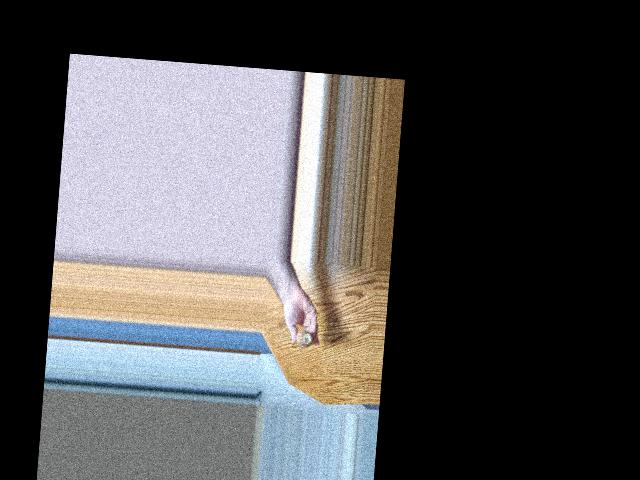sweet_potato: (293, 331, 312, 348)
